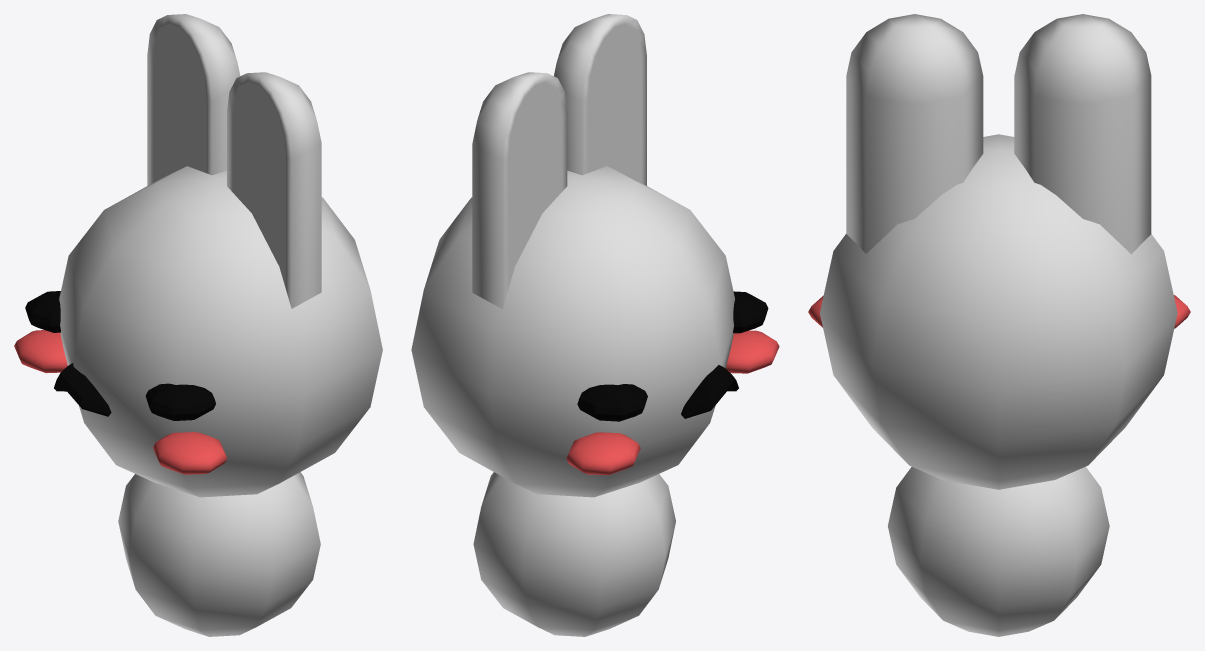
File: NeutralBun_White.fbx
3 views of the same model, side by side, from view 1: azimuth 30°, elevation 25°; view 2: azimuth 150°, elevation 25°; view 3: azimuth 270°, elevation 25° (orthographic). The views are drawn at different scales.
Parts seen in each view (by area): view 1: NeutralBun_White; view 2: NeutralBun_White; view 3: NeutralBun_White.
Boxes of the visible parts, x1=… form: NeutralBun_White: x1=14, y1=14, x2=382, y2=636; NeutralBun_White: x1=411, y1=14, x2=779, y2=636; NeutralBun_White: x1=808, y1=14, x2=1190, y2=636.
Size of the model in its own units: 106 by 191 by 108.
